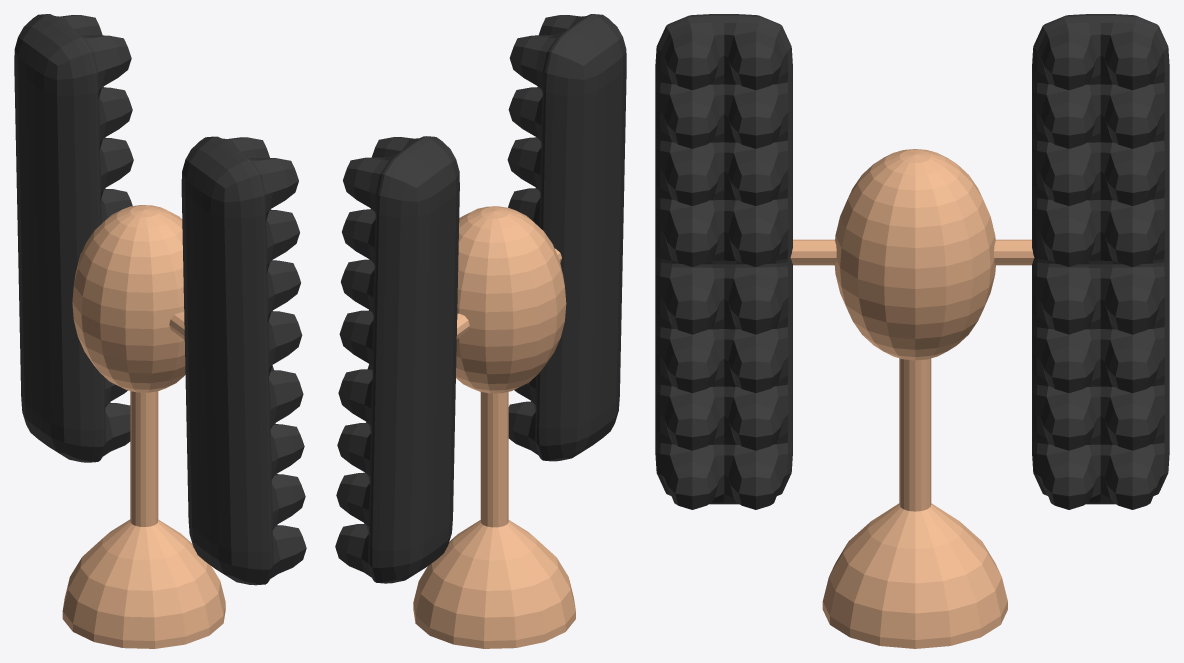
The model's file is EggGun.fbx.
3 renders of one model, left to right at view 1: azimuth 30°, elevation 25°; view 2: azimuth 150°, elevation 25°; view 3: azimuth 270°, elevation 25°, orthographic. The views are drawn at different scales.
Parts seen in each view (by area): view 1: egg_carton.001, egg_carton.002, egg_canon; view 2: egg_carton.002, egg_carton.001, egg_canon; view 3: egg_carton.002, egg_carton.001, egg_canon.
Boxes of the visible parts, <box> form: egg_carton.001: <box>181,136,306,585</box>; egg_carton.002: <box>14,14,133,462</box>; egg_canon: <box>62,205,225,648</box>; egg_carton.002: <box>335,136,459,583</box>; egg_carton.001: <box>507,14,626,461</box>; egg_canon: <box>413,206,575,648</box>; egg_carton.002: <box>1032,14,1169,509</box>; egg_carton.001: <box>655,14,792,509</box>; egg_canon: <box>790,149,1034,648</box>.
Size of the model in its own units: 309 by 1098 by 860.
